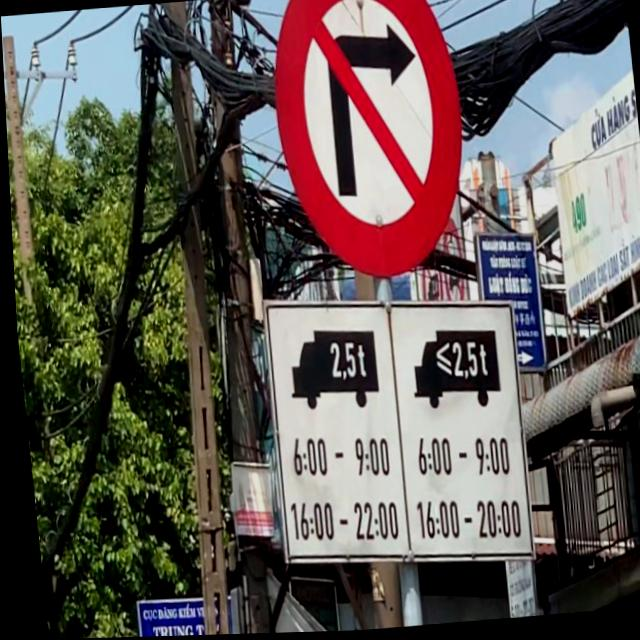Cam re phai: (263, 0, 476, 289)
